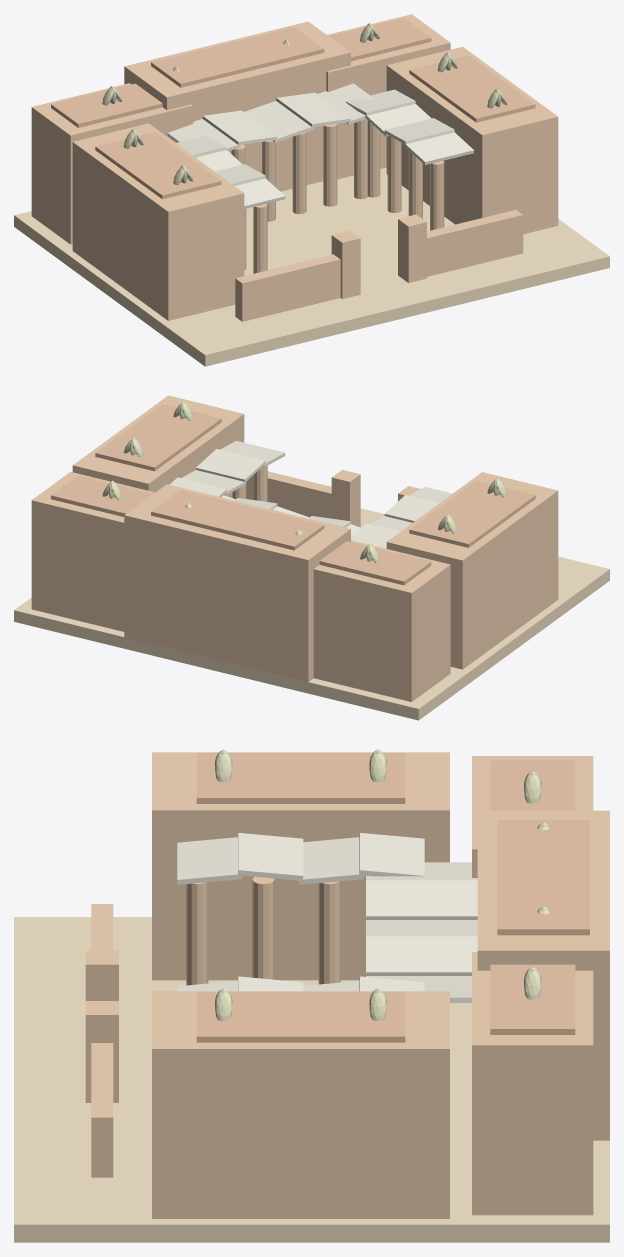
File: masjid_nabawi.glb
The picture shows the model from 3 angles, top to bottom: view 1: azimuth 30°, elevation 25°; view 2: azimuth 150°, elevation 25°; view 3: azimuth 270°, elevation 25°; orthographic projection. The views are drawn at different scales.
Parts seen in each view (by area): view 1: Base, B_L, B_R, B_Back, B_BL, B_Back_Top, Wall_L, Wall_R, B_BR, B_R_Top, B_L_Top, B_BL_Top (+25 smaller); view 2: B_Back, B_BL, B_L, B_BR, Base, B_R, B_Back_Top, B_L_Top, B_R_Top, B_BL_Top, Wall_R, B_BR_Top (+8 smaller); view 3: B_R, Base, B_L, B_BR, B_Back, B_Back_Top, B_R_Top, B_L_Top, B_BR_Top, Can_Back_1, Can_Back_3, B_BL_Top (+17 smaller).
Boxes of the visible parts, box(x1,y1,x2,y2) form: Base: box(14, 167, 609, 366); B_L: box(72, 123, 244, 320); B_R: box(386, 46, 558, 234); B_Back: box(124, 21, 350, 191); B_BL: box(31, 83, 193, 244); B_Back_Top: box(151, 27, 324, 87); Wall_L: box(235, 254, 340, 321); Wall_R: box(427, 210, 523, 276); B_BR: box(326, 14, 450, 179); B_R_Top: box(409, 55, 535, 122); B_L_Top: box(95, 132, 221, 199); B_BL_Top: box(51, 83, 162, 127); B_Back: box(124, 484, 350, 681); B_BL: box(313, 540, 450, 701); B_L: box(386, 472, 558, 669); B_BR: box(31, 472, 155, 631); Base: box(14, 508, 609, 720); B_R: box(72, 395, 244, 497); B_Back_Top: box(151, 490, 324, 550); B_L_Top: box(409, 480, 535, 547); B_R_Top: box(95, 404, 221, 471); B_BL_Top: box(319, 541, 431, 585); Wall_R: box(246, 471, 331, 518); B_BR_Top: box(51, 475, 152, 516); B_R: box(152, 991, 449, 1218); Base: box(14, 917, 609, 1242); B_L: box(152, 752, 449, 980); B_BR: box(472, 952, 593, 1215); B_Back: box(477, 810, 609, 1140); B_Back_Top: box(497, 820, 589, 935); B_R_Top: box(196, 991, 405, 1042); B_L_Top: box(196, 752, 405, 803); B_BR_Top: box(490, 964, 575, 1034); Can_Back_1: box(366, 880, 477, 919); Can_Back_3: box(366, 936, 477, 975); B_BL_Top: box(490, 760, 575, 810).
Size of the model in its own units: 3.3 by 1.1 by 2.7.
